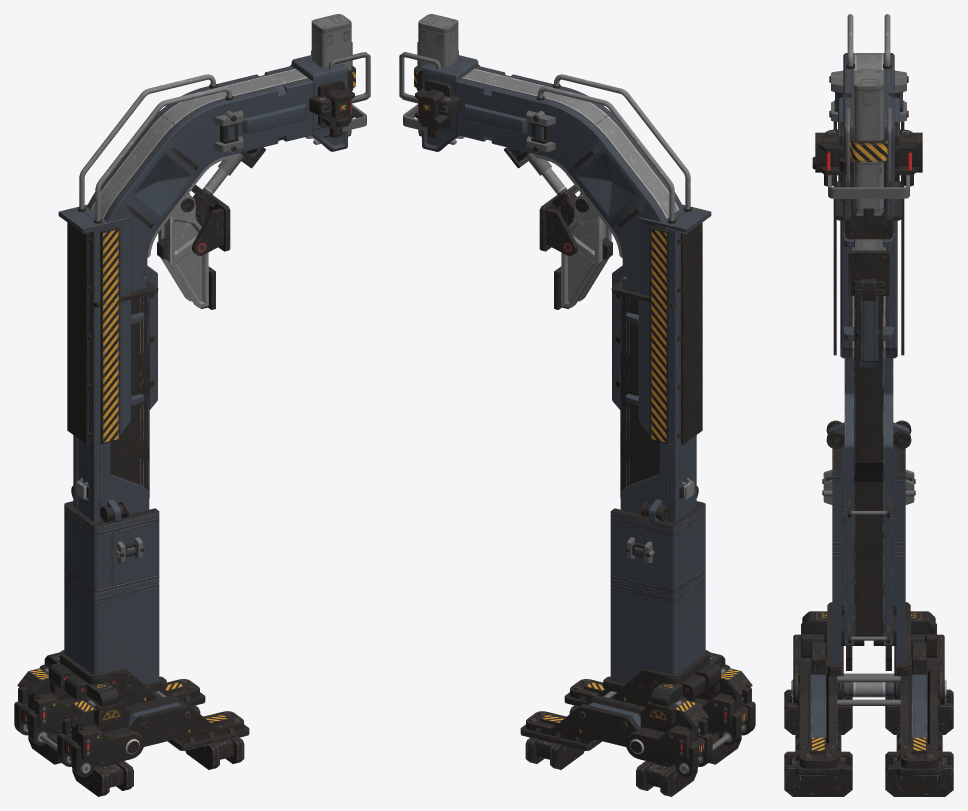
The model's file is Crane_2_L0.fbx.
3 views of the same model, side by side, from view 1: azimuth 30°, elevation 25°; view 2: azimuth 150°, elevation 25°; view 3: azimuth 270°, elevation 25° (orthographic). The views are drawn at different scales.
Visible parts, largest first — view 1: Crane_2_L0; view 2: Crane_2_L0; view 3: Crane_2_L0.
Part boxes in pixels (<box>): Crane_2_L0: <box>14,14,370,796</box>; Crane_2_L0: <box>399,14,755,796</box>; Crane_2_L0: <box>784,14,953,796</box>.
Size of the model in its own units: 402 by 834 by 163.
